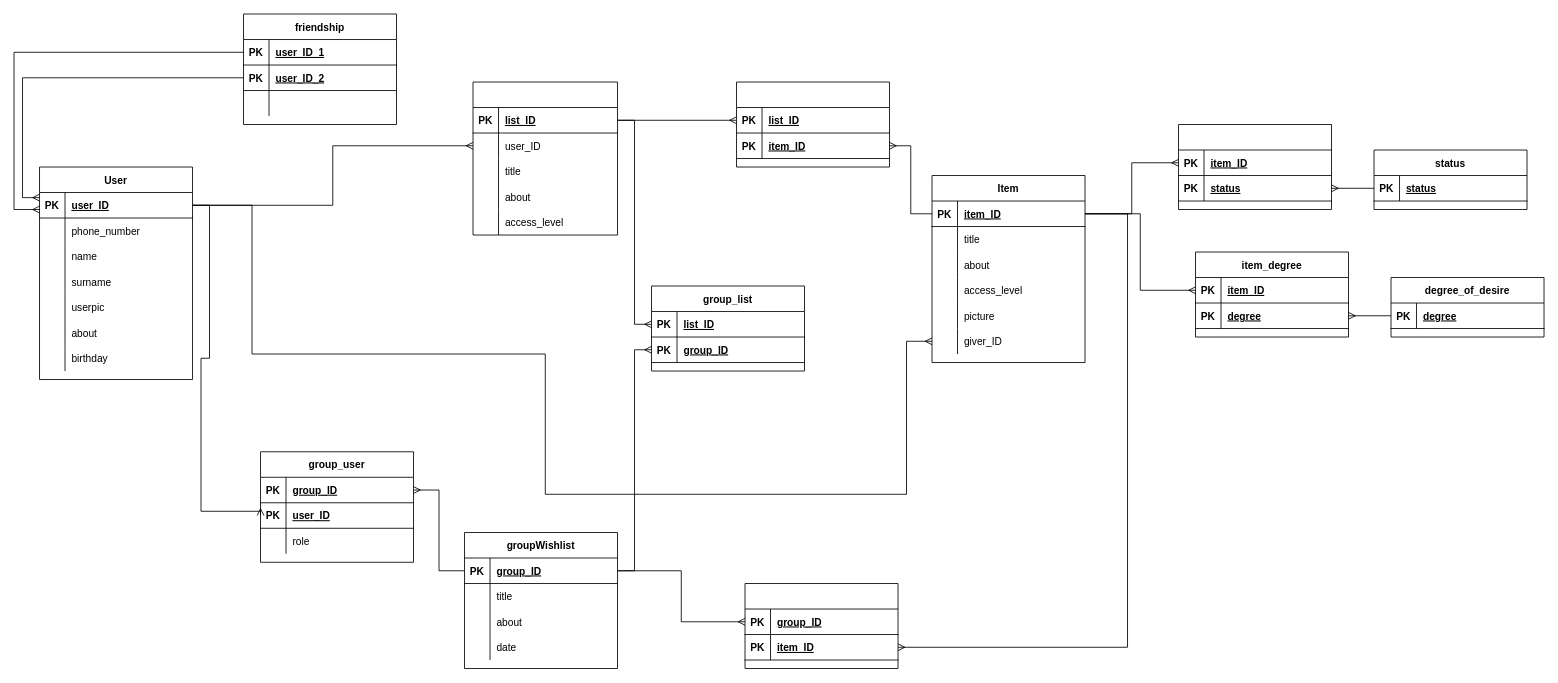
Image size: 1558x683. Some labels were removed from this diagram. The box of each missing label's shape, as (x1, y1, x2, y2) in pixels:
item_groupWishlist: (744, 583, 898, 669)
item_list: (736, 81, 890, 167)
item_status: (1178, 124, 1332, 210)
wishlist: (472, 81, 618, 235)
